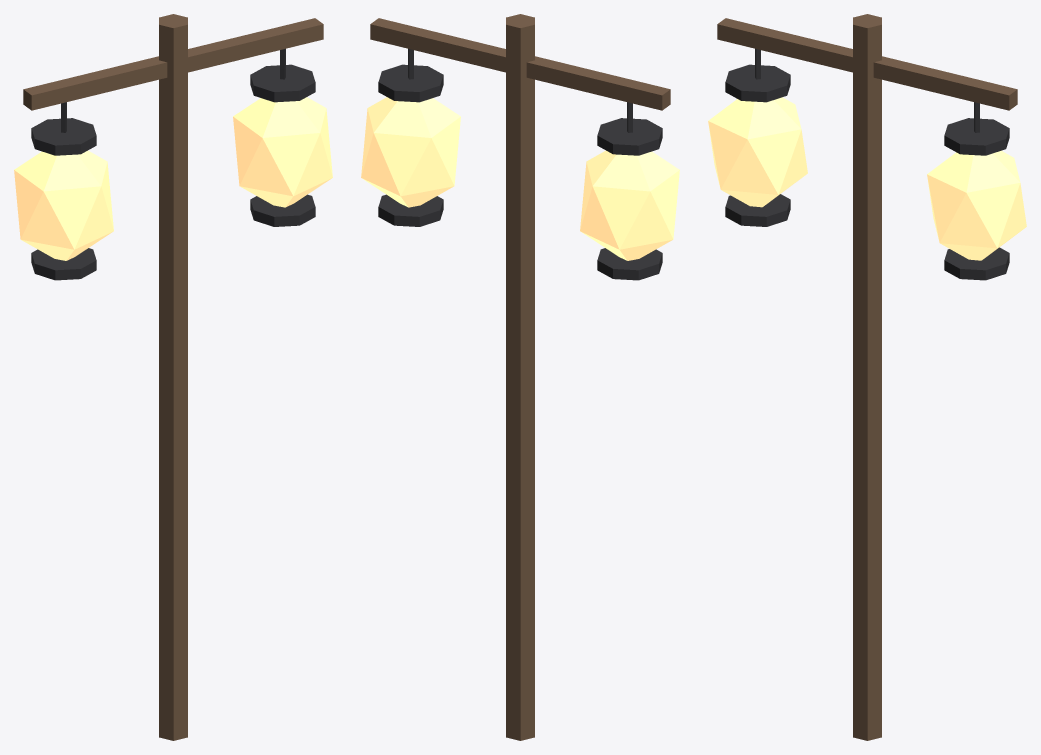
Rendered from chochin_post.glb.
The picture shows the model from 3 angles, left to right: view 1: azimuth 30°, elevation 25°; view 2: azimuth 150°, elevation 25°; view 3: azimuth 330°, elevation 25°; orthographic projection.
Visible parts, largest first — view 1: chochin_post; view 2: chochin_post; view 3: chochin_post.
Part boxes in pixels (x1,y1,x2,y2): chochin_post: [14, 14, 332, 740]; chochin_post: [361, 14, 679, 740]; chochin_post: [708, 14, 1026, 740].
Size of the model in its own units: 1.26 by 2.8 by 0.3403.
